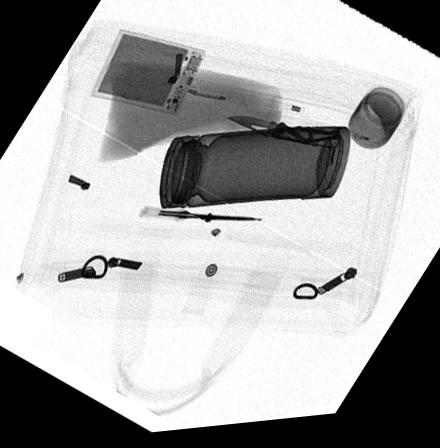Knife: (224, 115, 341, 156)
Powerbank: (87, 29, 207, 118)
Scissors: (138, 209, 265, 229)
